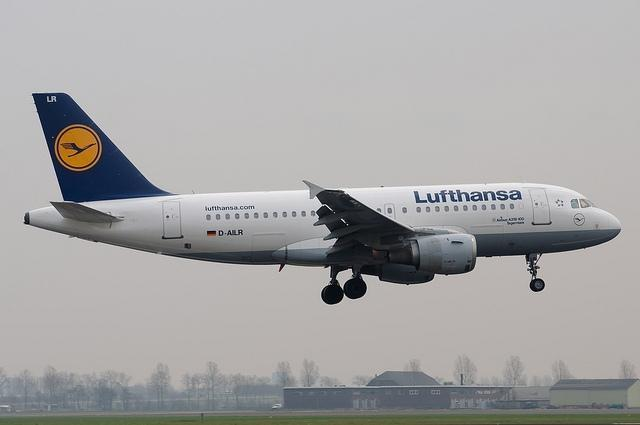car: (271, 404, 283, 410)
